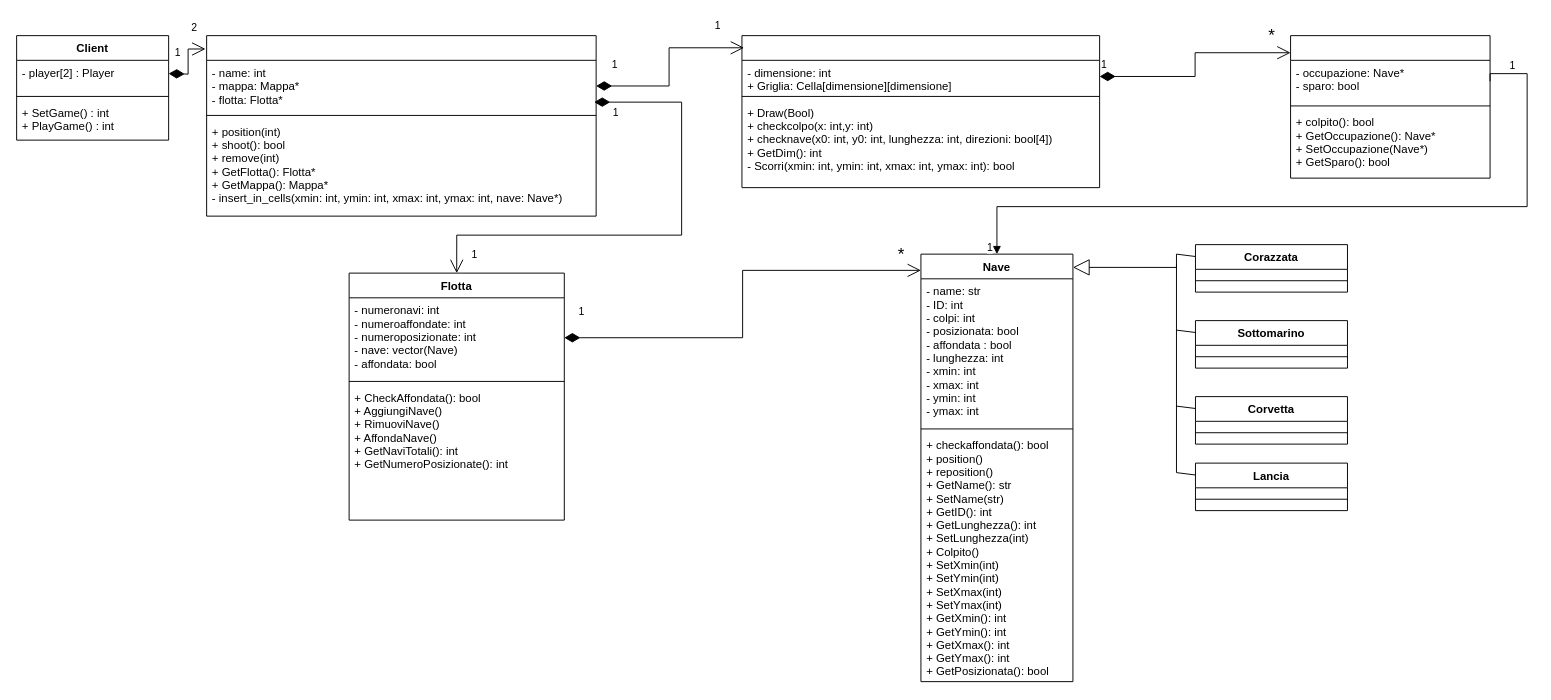
The diagram is 1551 pixels wide and 700 high, and some of its shapes have lost their labels. Here are the shapes that lost their labels. From the top down, the box of each, then its label:
(206, 35, 596, 216): Player
(741, 35, 1100, 188): Mappa
(1290, 35, 1490, 178): Cella
